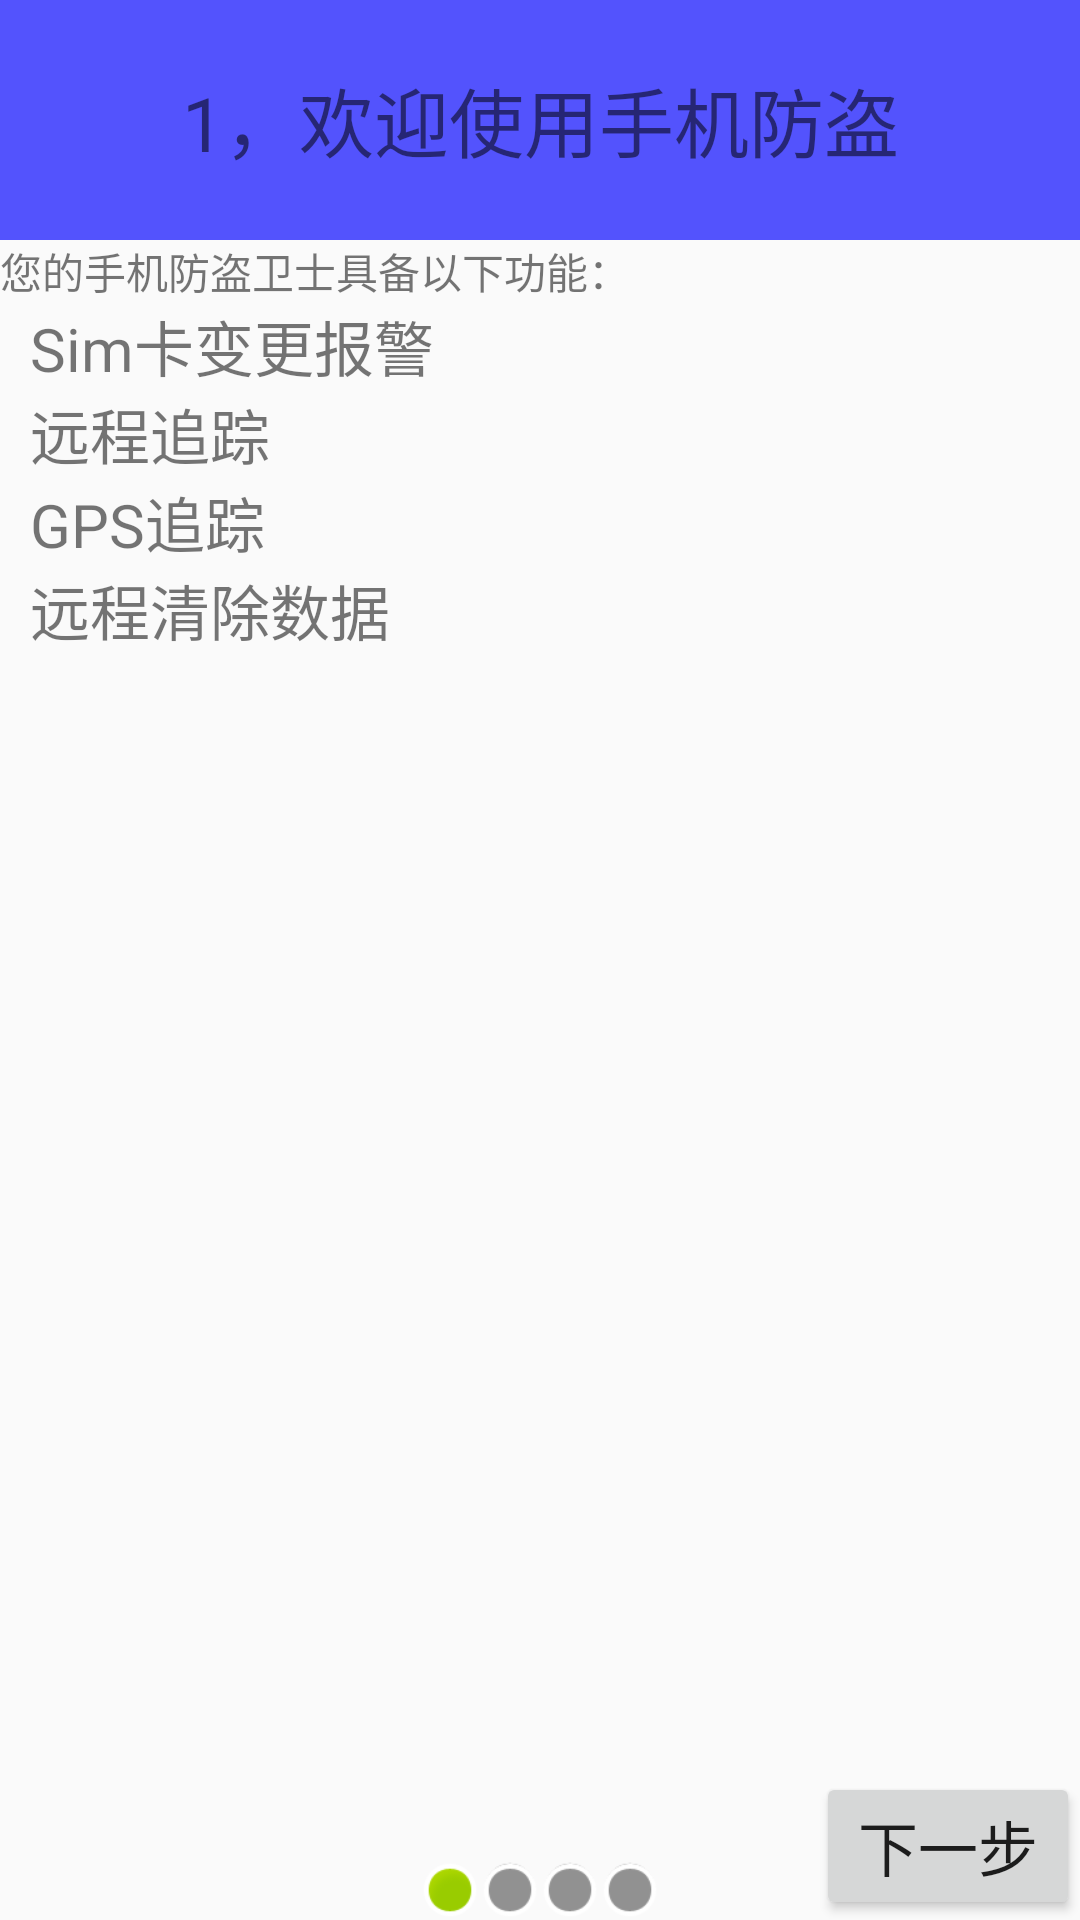

Point at icon controls on the screen. Image size 1080px×1920px, points as (x=x, y=y).
presence invisible: (x=510, y=1888), (x=570, y=1888), (x=630, y=1888)
presence online: (x=450, y=1890)
